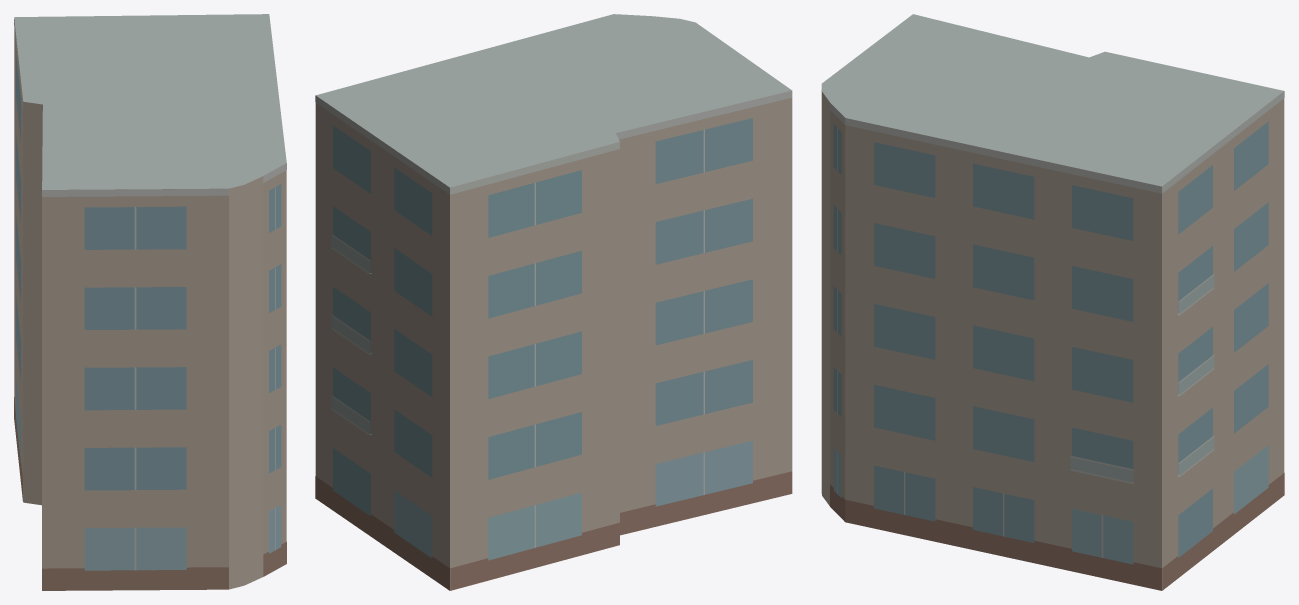
File: survey-upis-33006929.glb
3 views of the same model, side by side, from view 1: azimuth 30°, elevation 25°; view 2: azimuth 150°, elevation 25°; view 3: azimuth 270°, elevation 25° (orthographic).
Visible parts, largest first — view 1: survey-upis-33006929.tmp; view 2: survey-upis-33006929.tmp; view 3: survey-upis-33006929.tmp.
Boxes of the visible parts, bbox=[...] form: survey-upis-33006929.tmp: bbox=[14, 14, 286, 590]; survey-upis-33006929.tmp: bbox=[315, 14, 792, 590]; survey-upis-33006929.tmp: bbox=[821, 14, 1284, 590].
Size of the model in its own units: 12.74 by 13.9 by 14.43.
